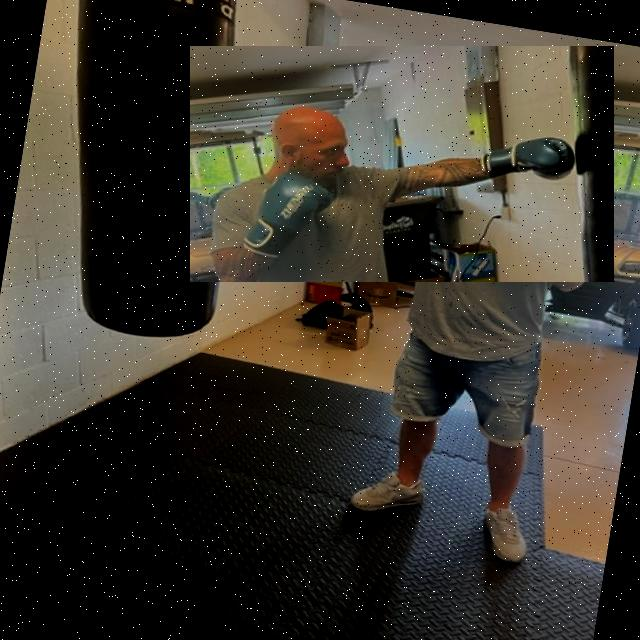punch: (190, 46, 614, 282)
